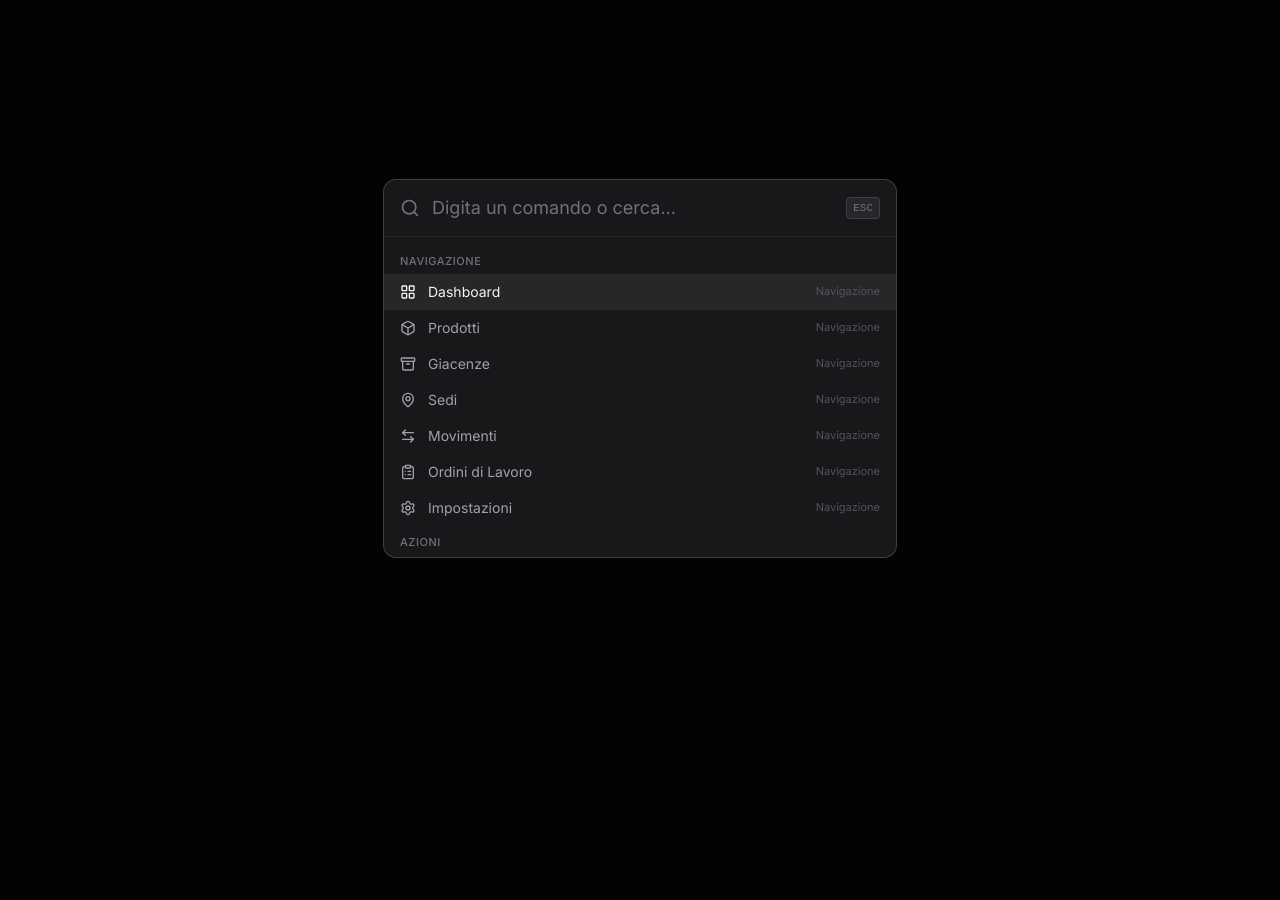
CommandPalette › i18n › filters by translated label
Type "spedisci" into the field with test id "command-palette-input".
click(633, 208); type("spedisci")  # box [432,180,834,236]
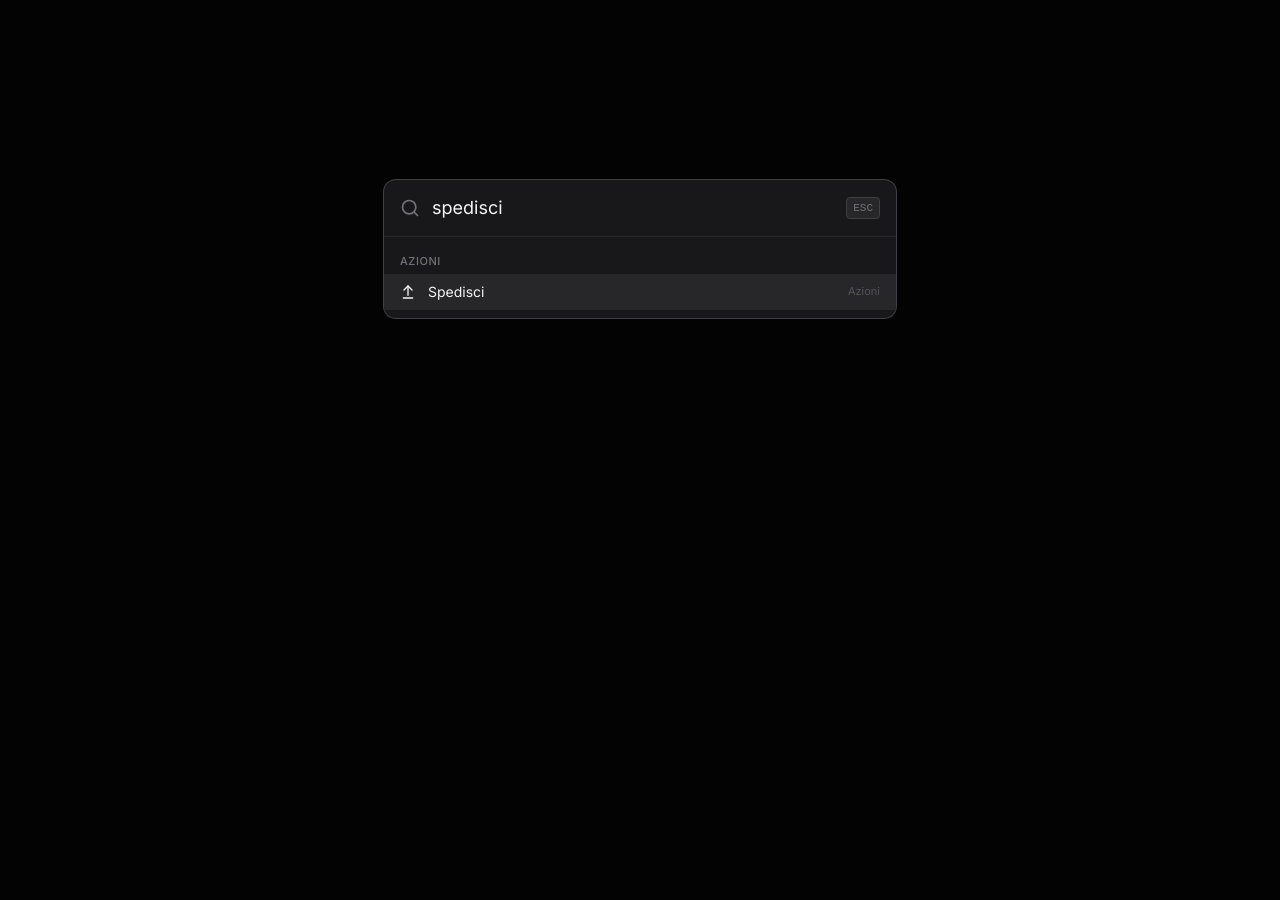
Check: the text "Spedisci" is shown, box [428,282,484,300]
Check: the button "Prodotti" is gone
